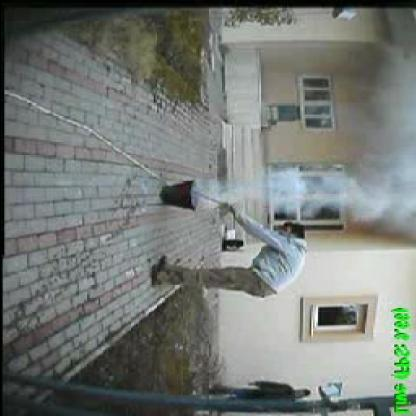Smoke: (206, 165, 412, 223)
